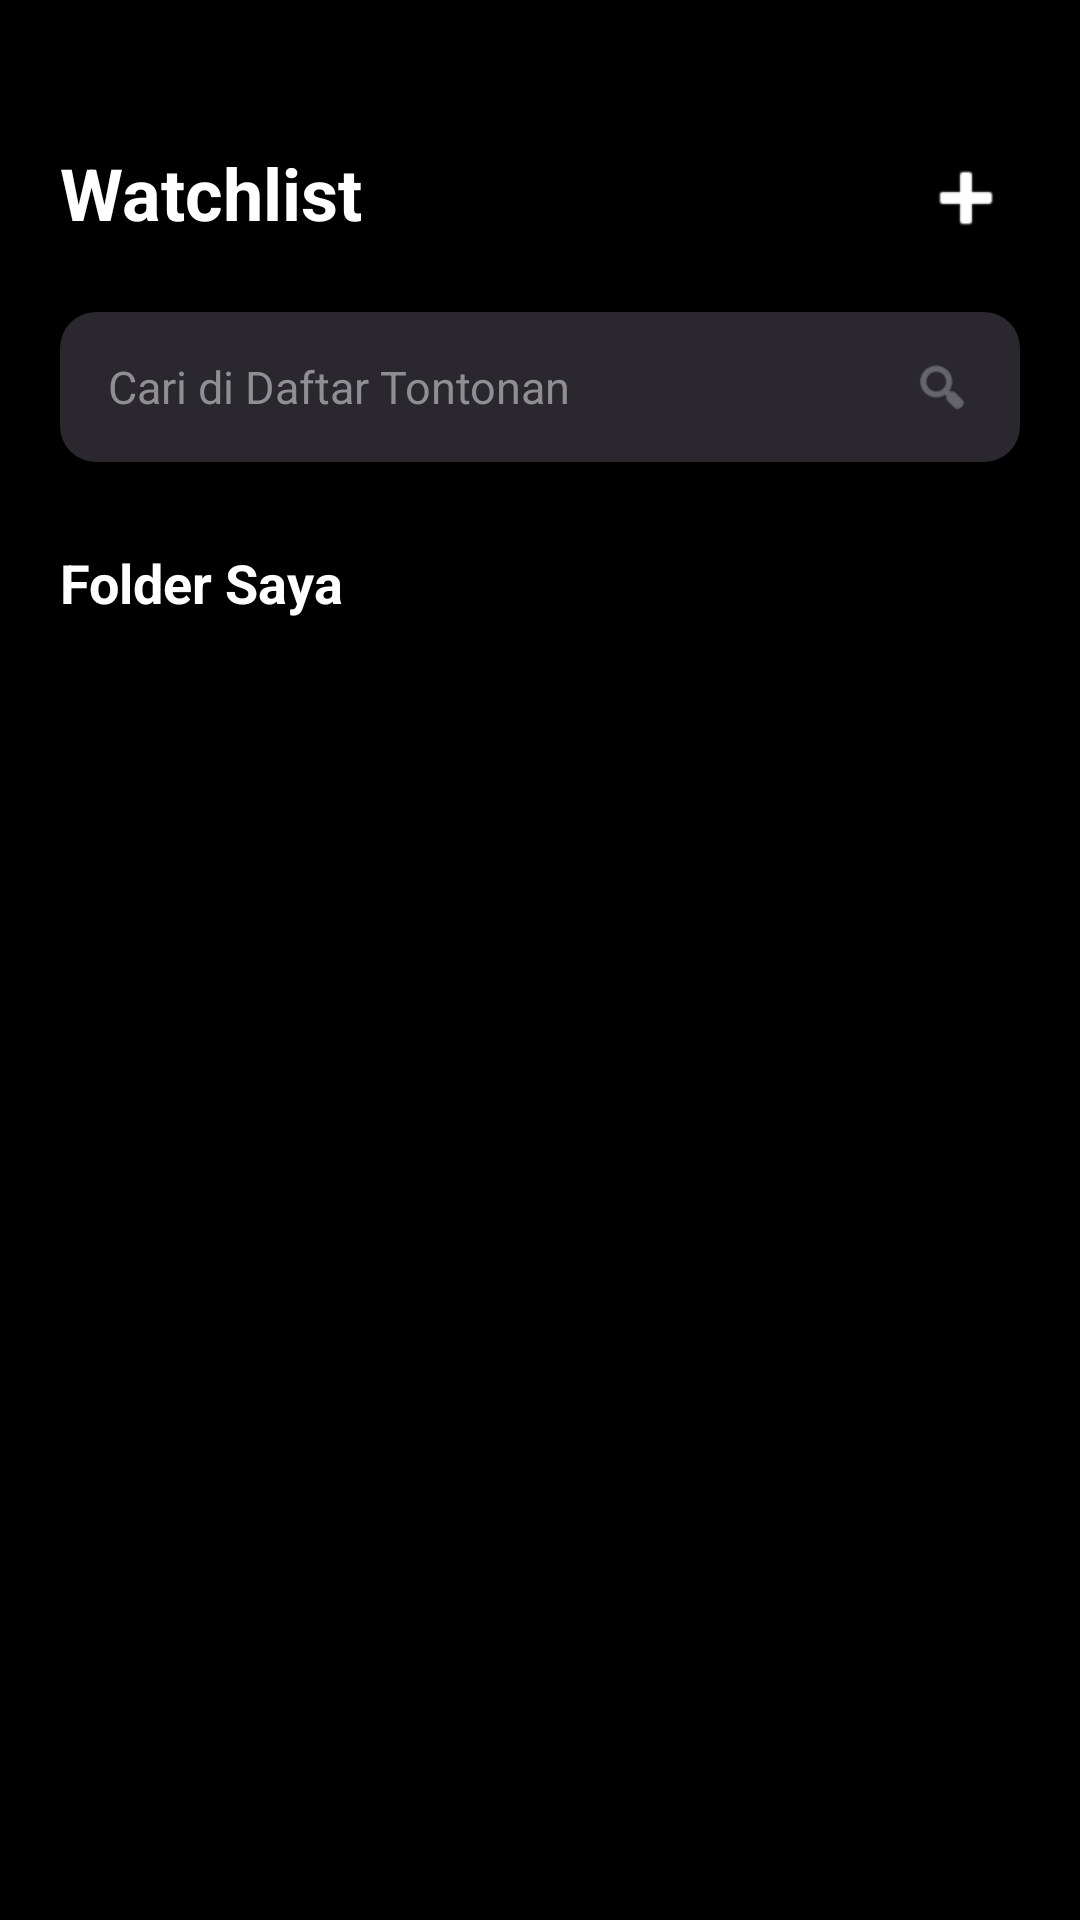

Named icons in this screenshot (1080 × 1920) and their bounding boxes, (x1, y1, x2, y2):
Add: (939, 171, 993, 225)
search: (920, 365, 964, 409)
